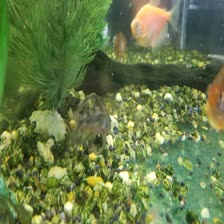Kiros: (62, 92, 126, 146)
Plano: (119, 1, 180, 57)
